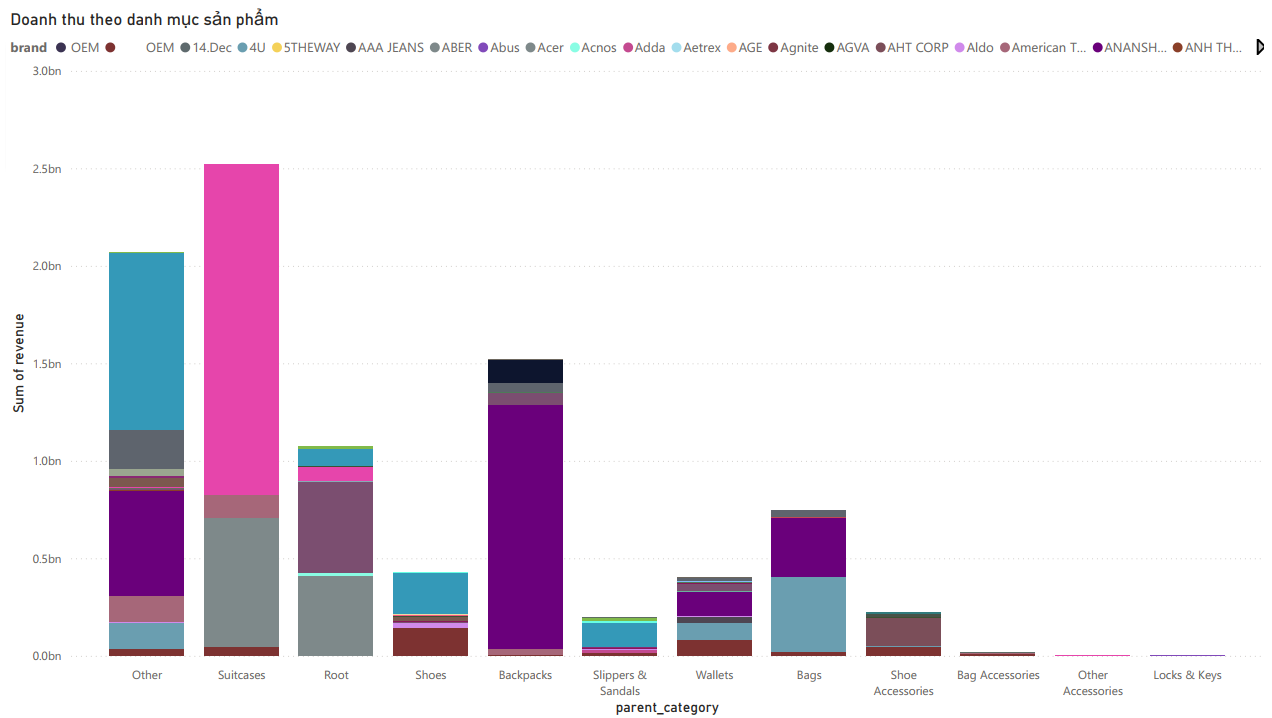

What the dashboard file says about the page in this screenshot:
{"tool":"powerbi","page":{"name":"Page 3","canvas":[1280,720],"ordinal":2},"visuals":[{"type":"columnChart","title":" Doanh thu theo danh mục sản phẩm","fields":{"Category":["public DimCategory.parent_category"],"Y":["Sum(public FactSales.revenue)"],"Series":["public DimBrand.brand"]},"box":[0,0,1280,720],"z":0}]}

Visuals, with their boxes in screenshot pixels (x1, y1, x2, y2), scaled from the page's 1280x720 canvas onto the 1272x718 screenshot:
" Doanh thu theo danh mục sản phẩm" columnChart: {"x1": 0, "y1": 0, "x2": 1271, "y2": 717}
